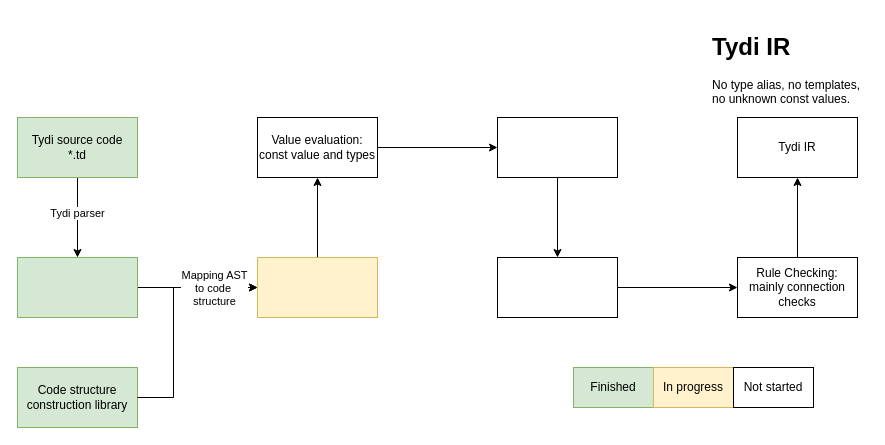
The diagram is 885 pixels wide and 445 high, and some of its shapes have lost their labels. Each missing label, with the centre of its shape:
"AST tree" goes at [77,287].
"Code expansion: for and if block" goes at [557,147].
"Code expansion: templates" goes at [557,287].
"Code structure" goes at [317,287].
